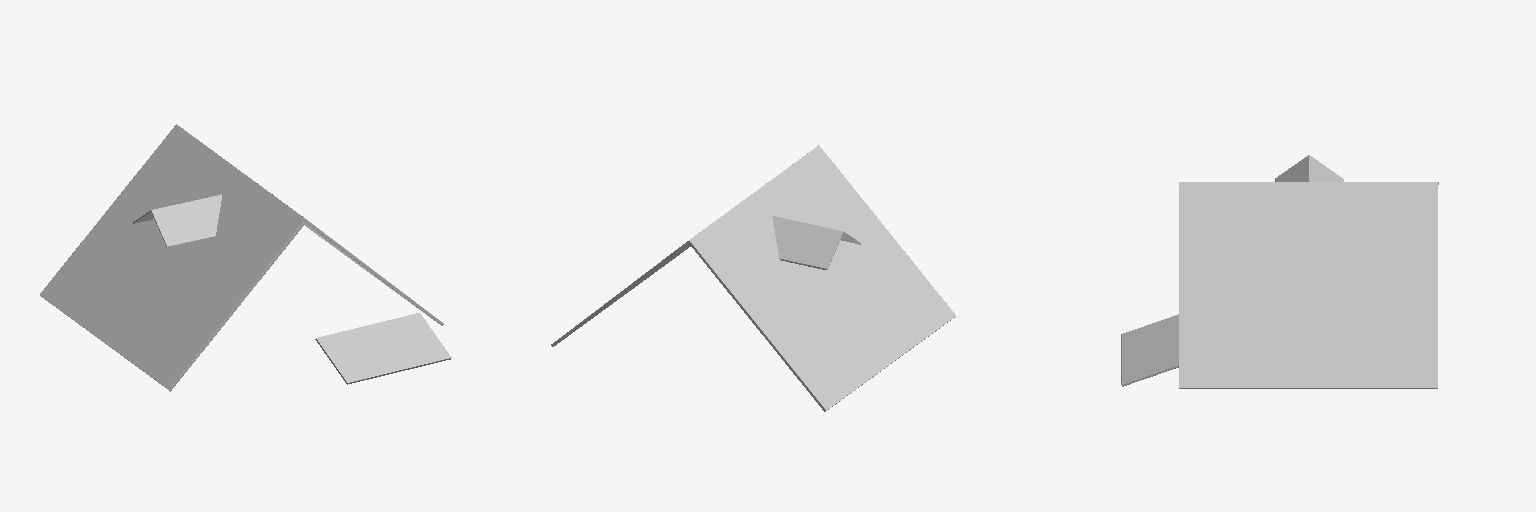
The model's file is Roof.obj.
The picture shows the model from 3 angles: view 1: azimuth 30°, elevation 25°; view 2: azimuth 150°, elevation 25°; view 3: azimuth 270°, elevation 25°; orthographic projection.
Visible parts, largest first — view 1: Roof_Cube.016; view 2: Roof_Cube.016; view 3: Roof_Cube.016.
Part boxes in pixels (x1,y1,x2,y2): Roof_Cube.016: (40,124,451,391); Roof_Cube.016: (551,145,955,411); Roof_Cube.016: (1121,155,1438,388).
Size of the model in its own units: 6.38 by 3.28 by 6.35.